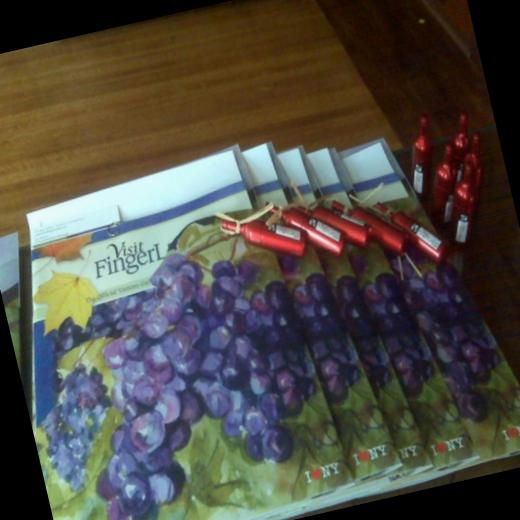Orange: (29, 224, 341, 520), (392, 254, 514, 428), (288, 269, 367, 408), (360, 268, 438, 406), (328, 266, 394, 390)
